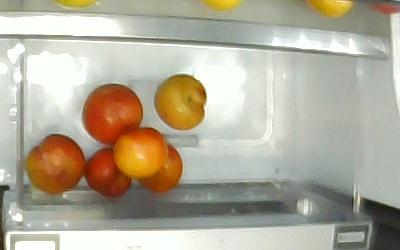prune: (81, 83, 142, 145), (24, 134, 86, 193), (154, 72, 207, 131), (114, 127, 168, 178), (83, 148, 132, 198), (138, 144, 183, 194)
